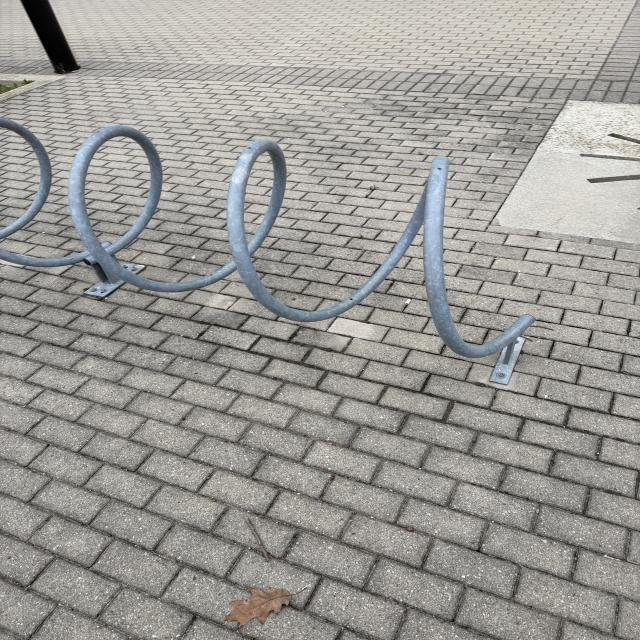Bicycle Rack: (0, 112, 537, 393)
